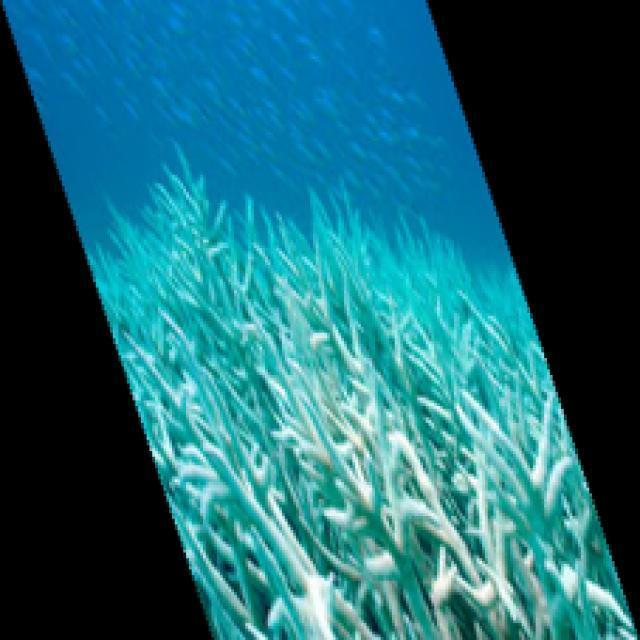Bleached: (89, 266, 640, 640)
